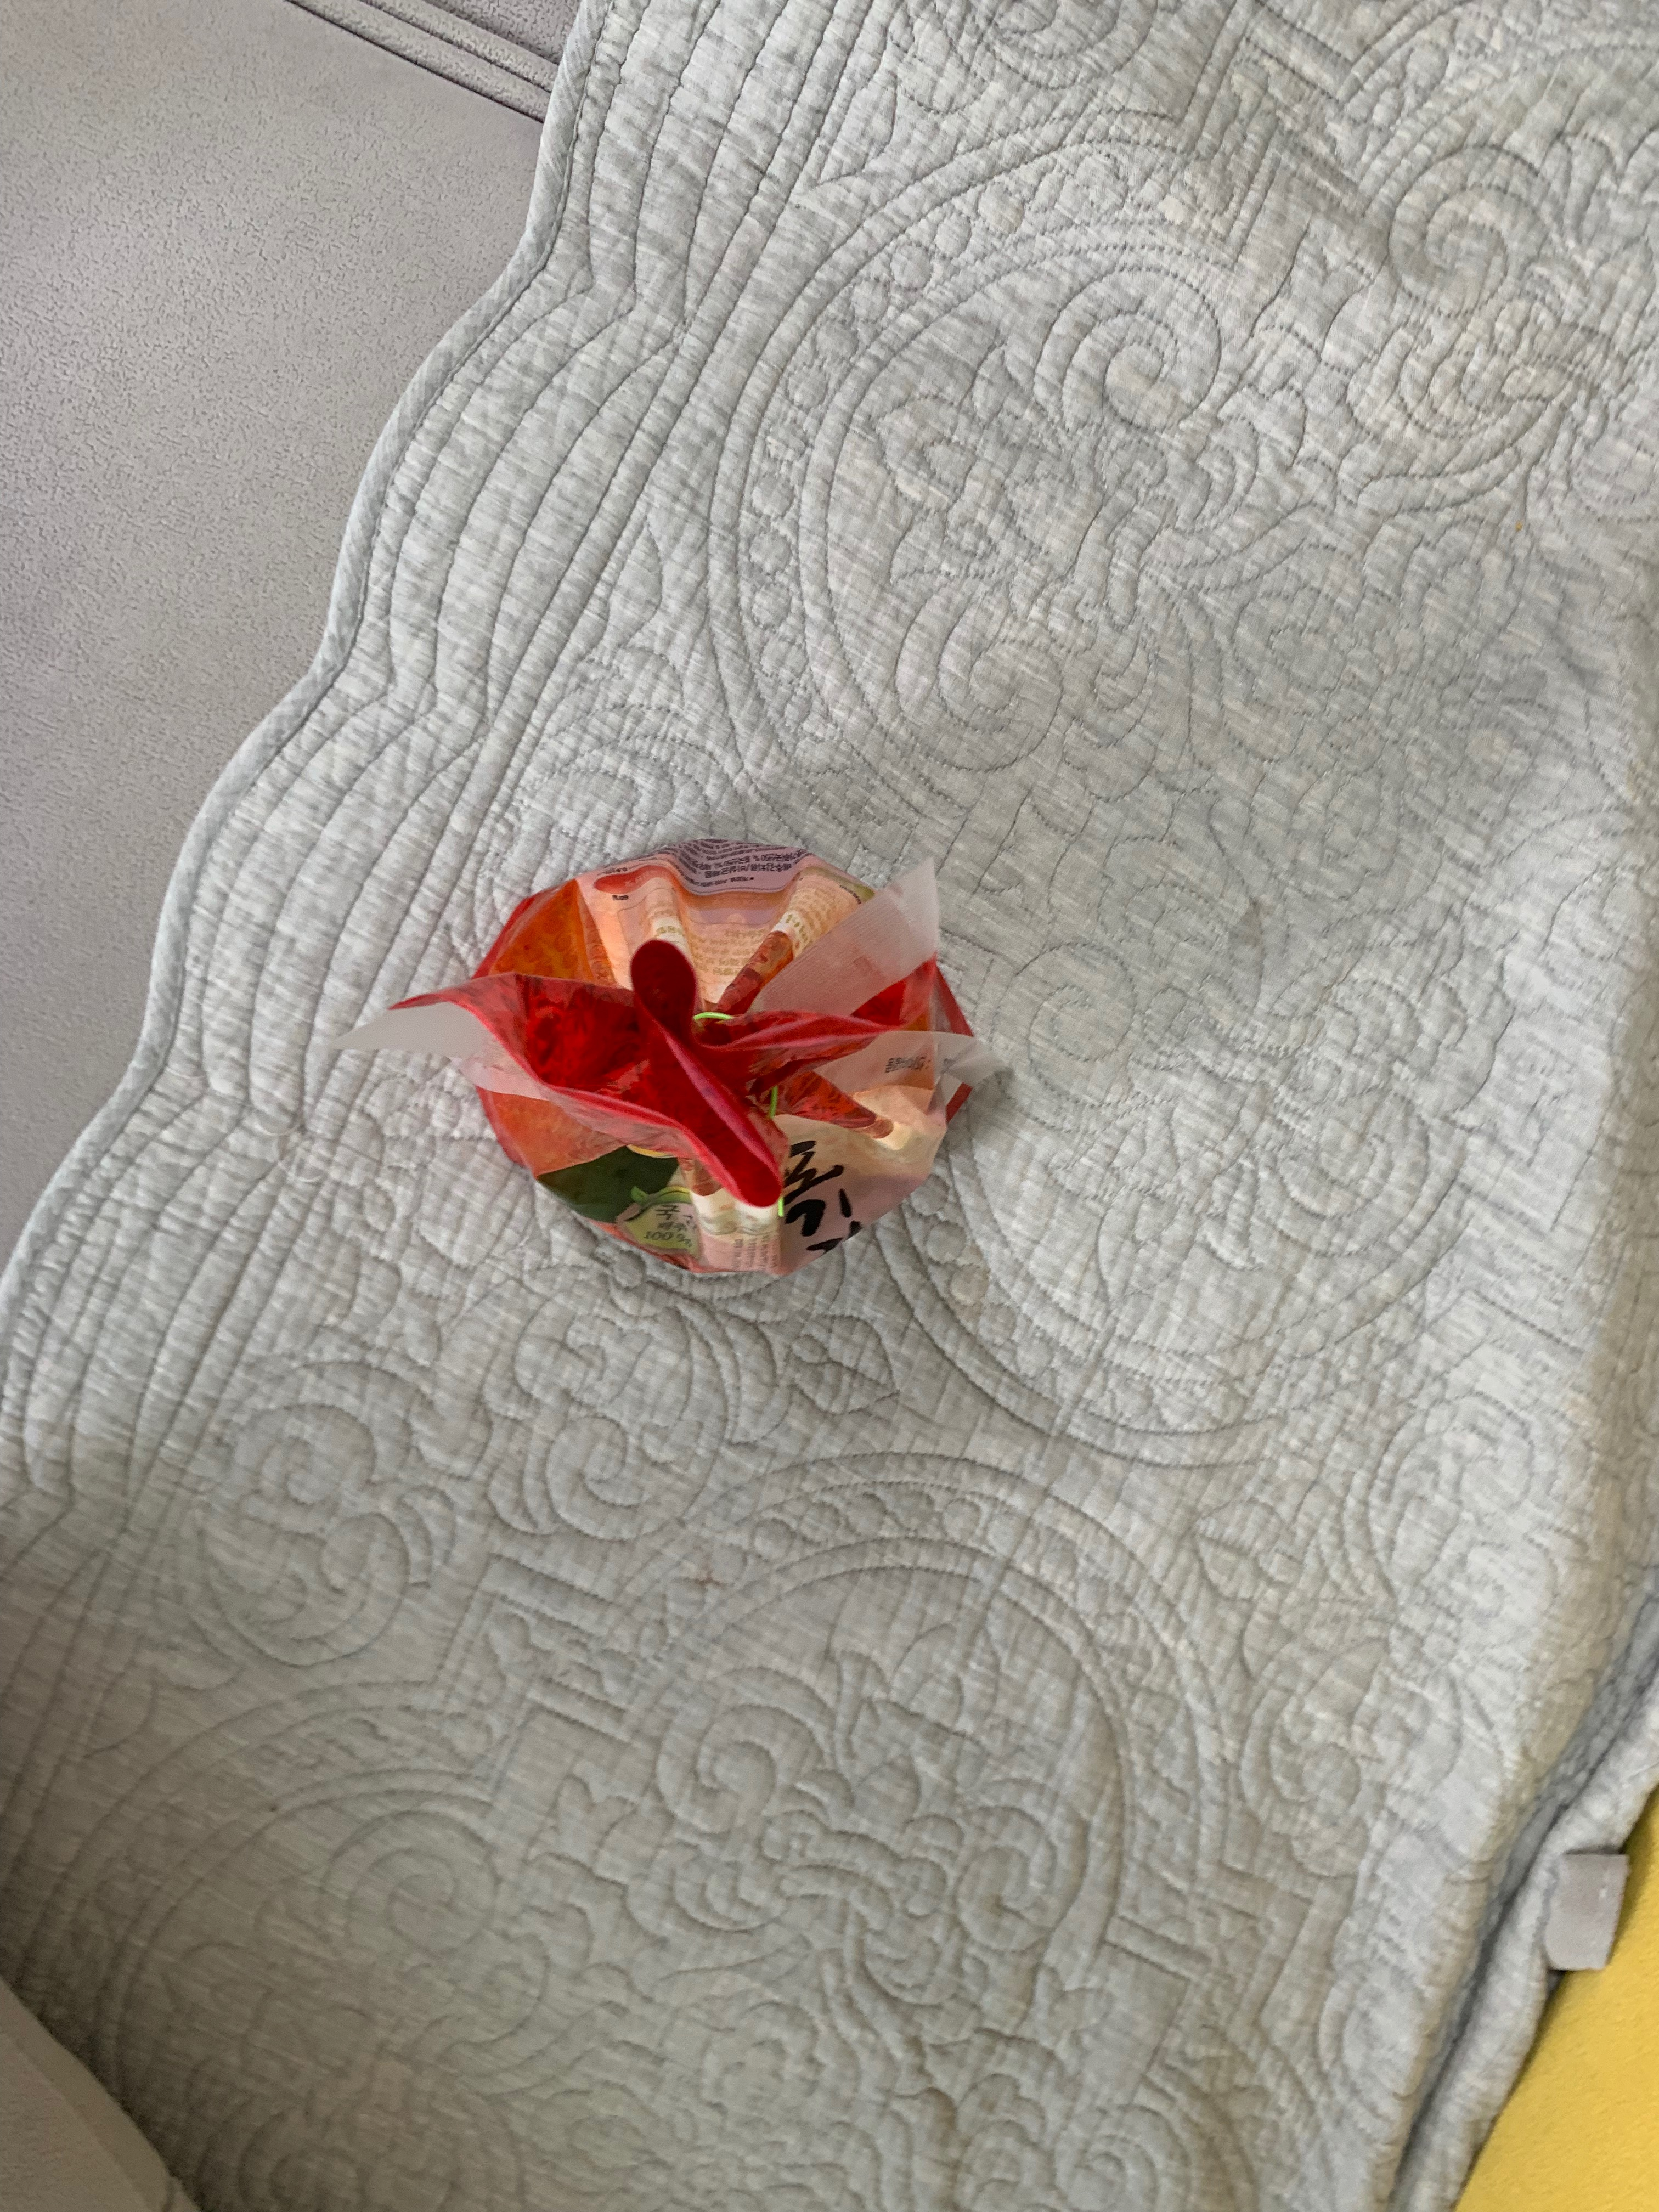kimchi: (471, 838, 988, 1282)
